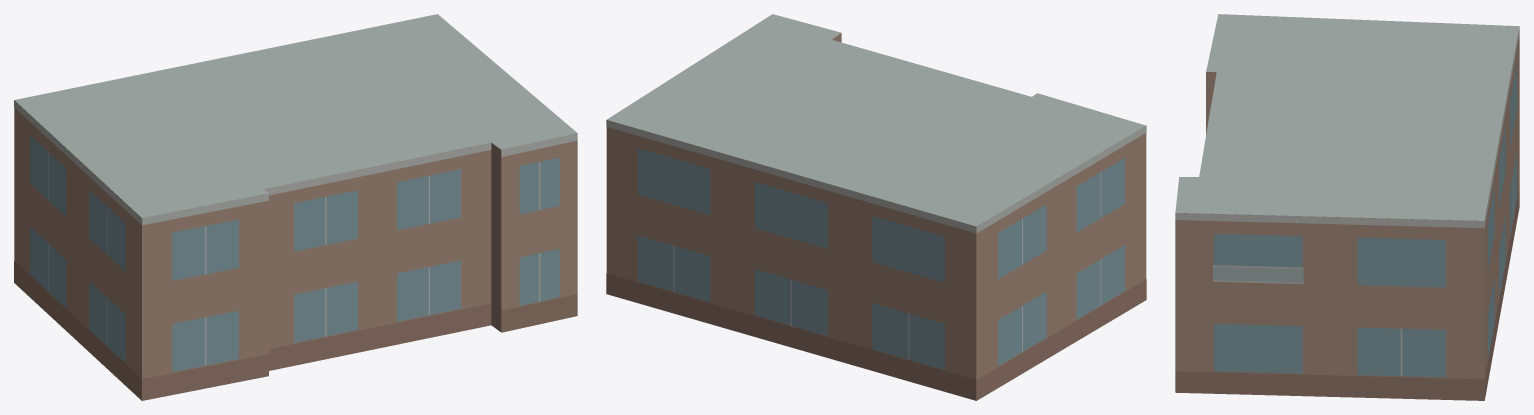
Rendered from survey-upis-33031357.glb.
The picture shows the model from 3 angles, left to right: view 1: azimuth 30°, elevation 25°; view 2: azimuth 150°, elevation 25°; view 3: azimuth 270°, elevation 25°; orthographic projection. The views are drawn at different scales.
Visible parts, largest first — view 1: survey-upis-33031357.tmp; view 2: survey-upis-33031357.tmp; view 3: survey-upis-33031357.tmp.
Part boxes in pixels (x1,y1,x2,y2): survey-upis-33031357.tmp: (14,14,577,400); survey-upis-33031357.tmp: (606,14,1146,400); survey-upis-33031357.tmp: (1175,14,1519,400).
Bounding box in the file's own units: 15.06 × 6.1 × 10.59.
